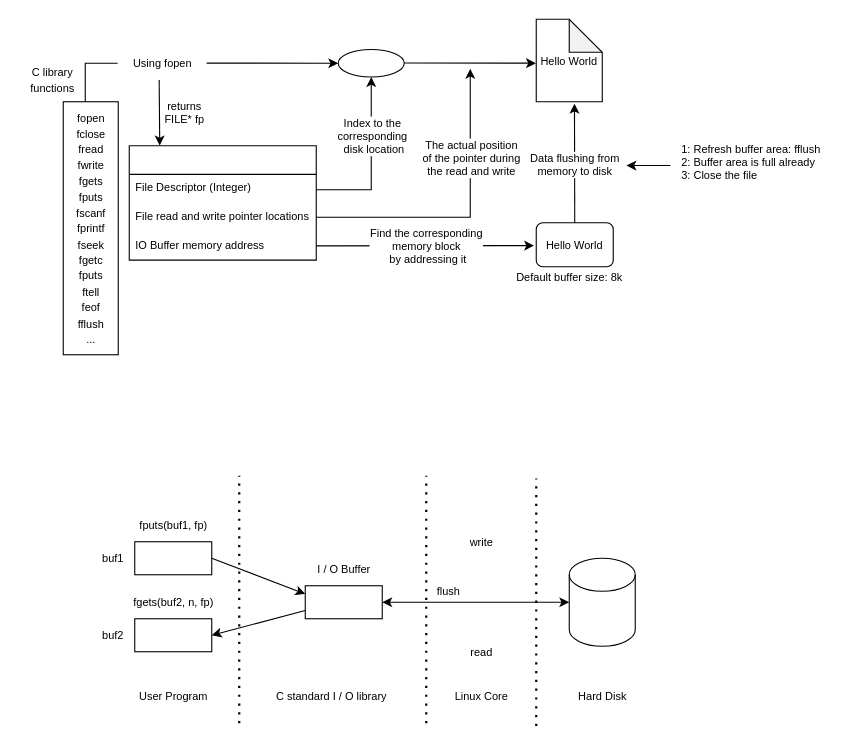
Some shapes in this 851 by 747 pixel diagram are drawn without their labels. The shapes that lost their labels are listed below. From the top down, each one's box as (x1, y1, x2, y2) in pixels, then its label:
(337, 48, 404, 77): hello.txt
(128, 145, 316, 260): Struct
